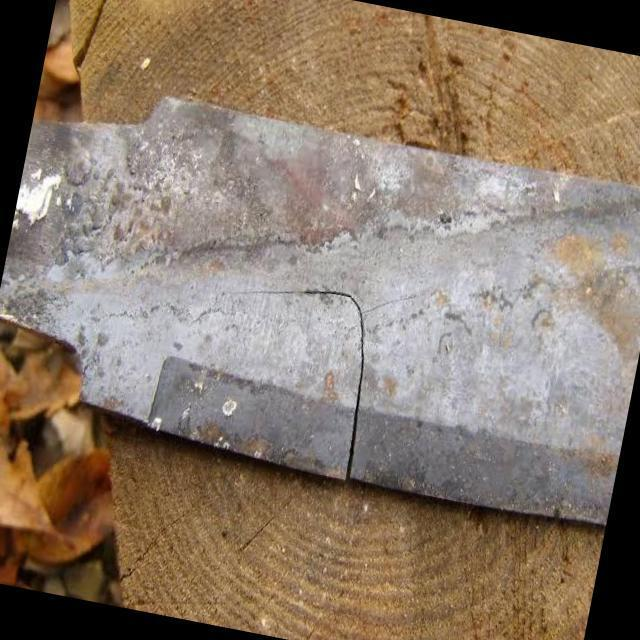defect: (230, 285, 368, 479)
